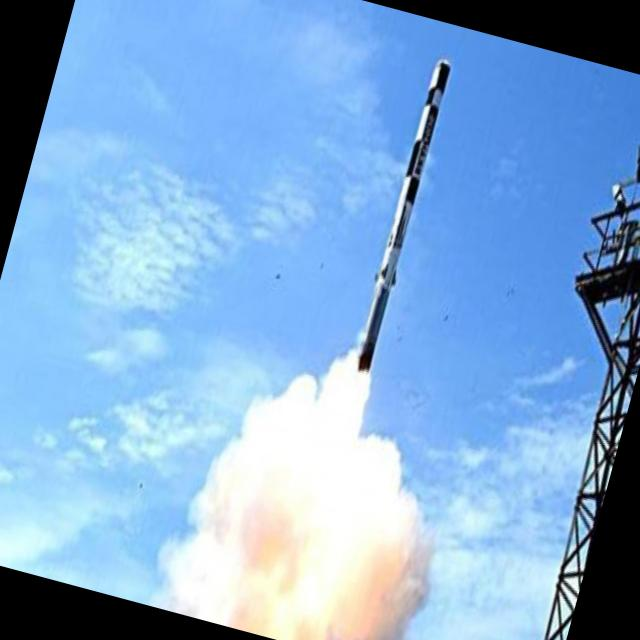rocket: (337, 44, 463, 396)
